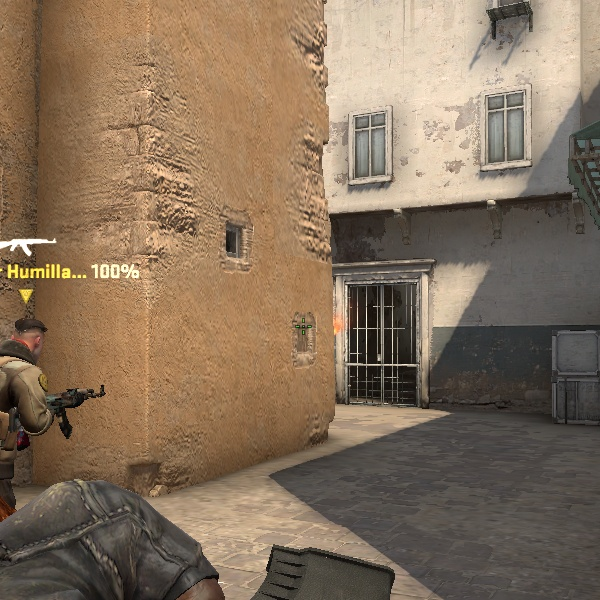t_body: (4, 307, 81, 508)
t_head: (1, 308, 56, 371)
